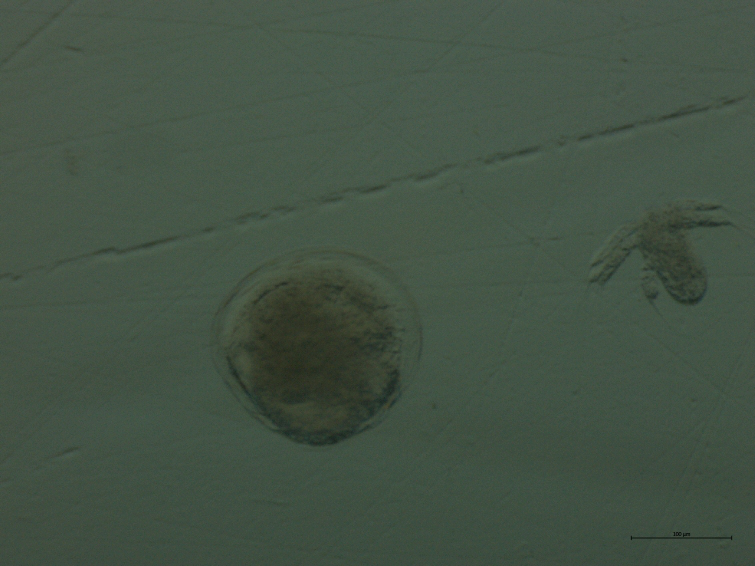oyster: (205, 235, 430, 469)
